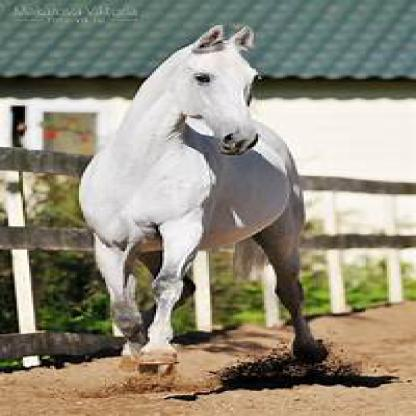horse: (75, 22, 331, 383)
